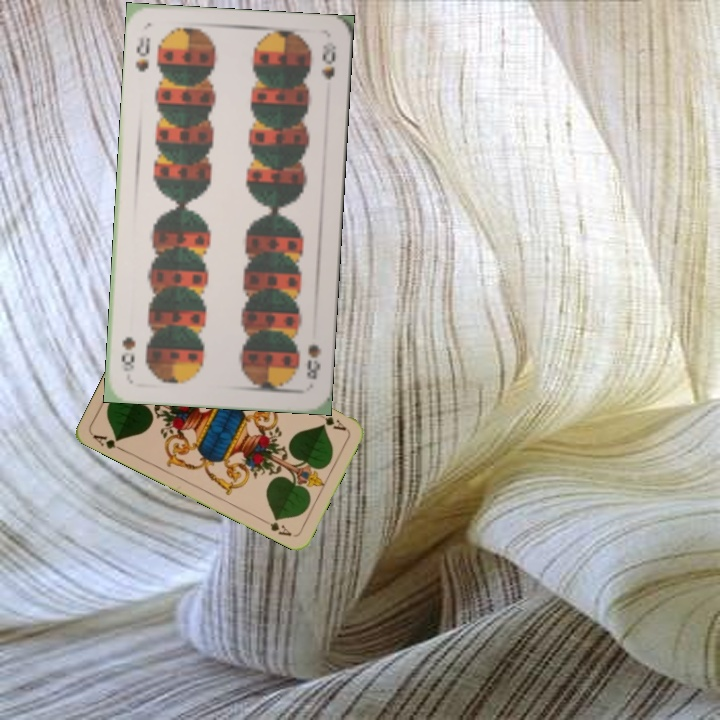GA: (311, 408, 349, 433), (89, 430, 127, 454)
S8: (302, 340, 324, 382), (132, 32, 153, 74)
